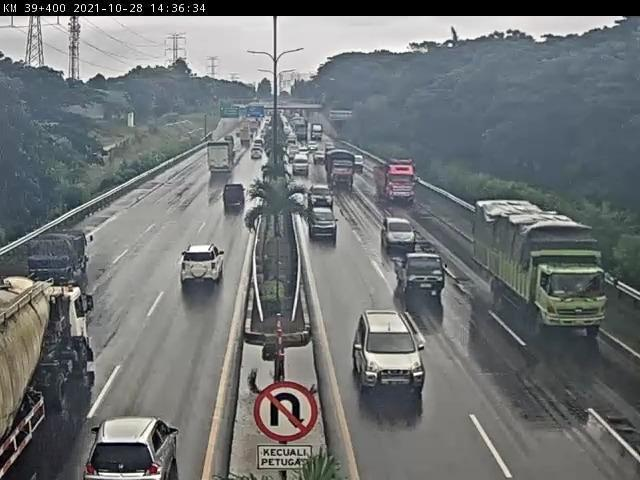car: (357, 317, 421, 386), (97, 412, 166, 474), (181, 235, 226, 295), (402, 256, 453, 304), (377, 213, 417, 253), (220, 185, 254, 221), (313, 209, 339, 239), (312, 184, 330, 207), (297, 157, 314, 178), (249, 149, 265, 161)
truck: (477, 208, 627, 338), (3, 275, 92, 436), (42, 221, 88, 274), (376, 163, 422, 199), (327, 155, 359, 187), (209, 141, 234, 177)
